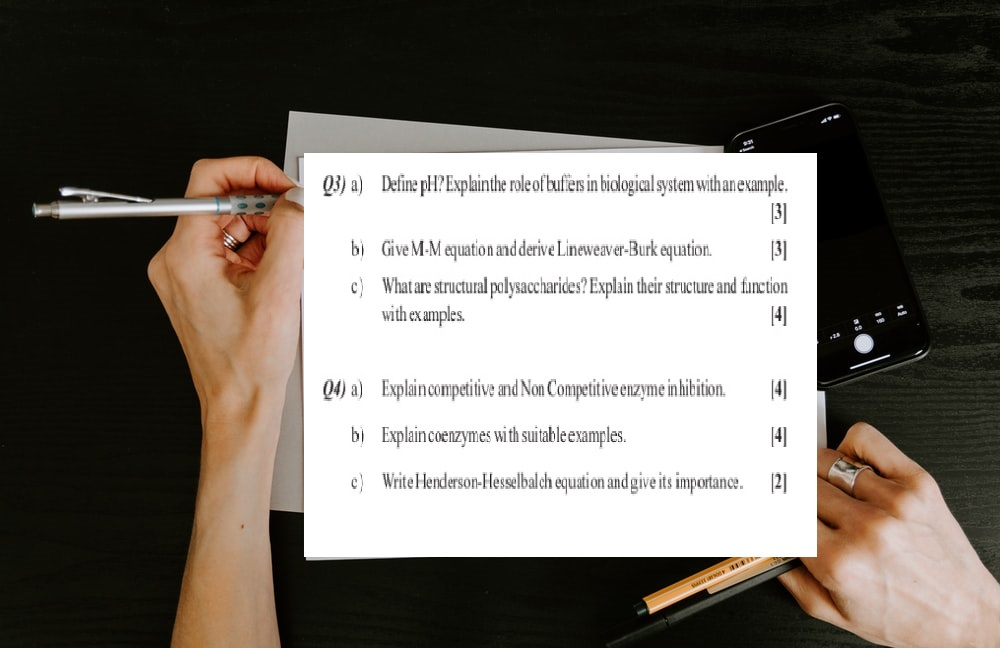questionPaper: (299, 152, 829, 554)
